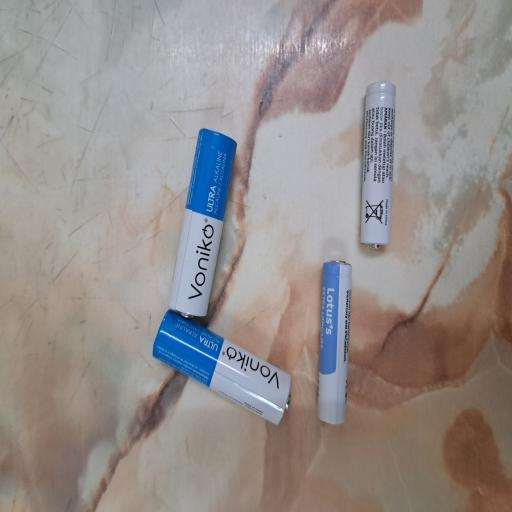battery: (63, 203, 153, 391), (146, 222, 288, 316), (65, 422, 190, 470), (196, 478, 324, 512)
